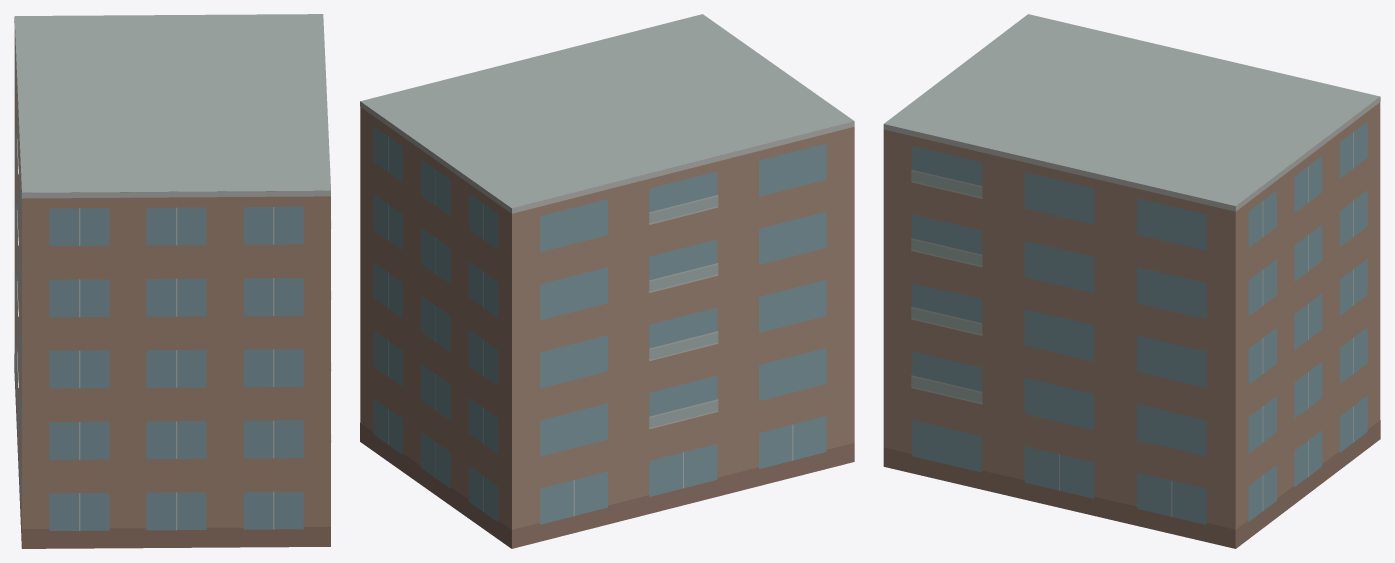
Rendered from survey-upis-32876838.glb.
The picture shows the model from 3 angles, left to right: view 1: azimuth 30°, elevation 25°; view 2: azimuth 150°, elevation 25°; view 3: azimuth 270°, elevation 25°; orthographic projection. The views are drawn at different scales.
Visible parts, largest first — view 1: survey-upis-32876838.tmp; view 2: survey-upis-32876838.tmp; view 3: survey-upis-32876838.tmp.
Part boxes in pixels (x1=…): survey-upis-32876838.tmp: x1=14, y1=14, x2=331, y2=548; survey-upis-32876838.tmp: x1=360, y1=14, x2=854, y2=548; survey-upis-32876838.tmp: x1=883, y1=14, x2=1380, y2=548.
Bounding box in the file's own units: 18.35 × 15.25 × 20.04.
